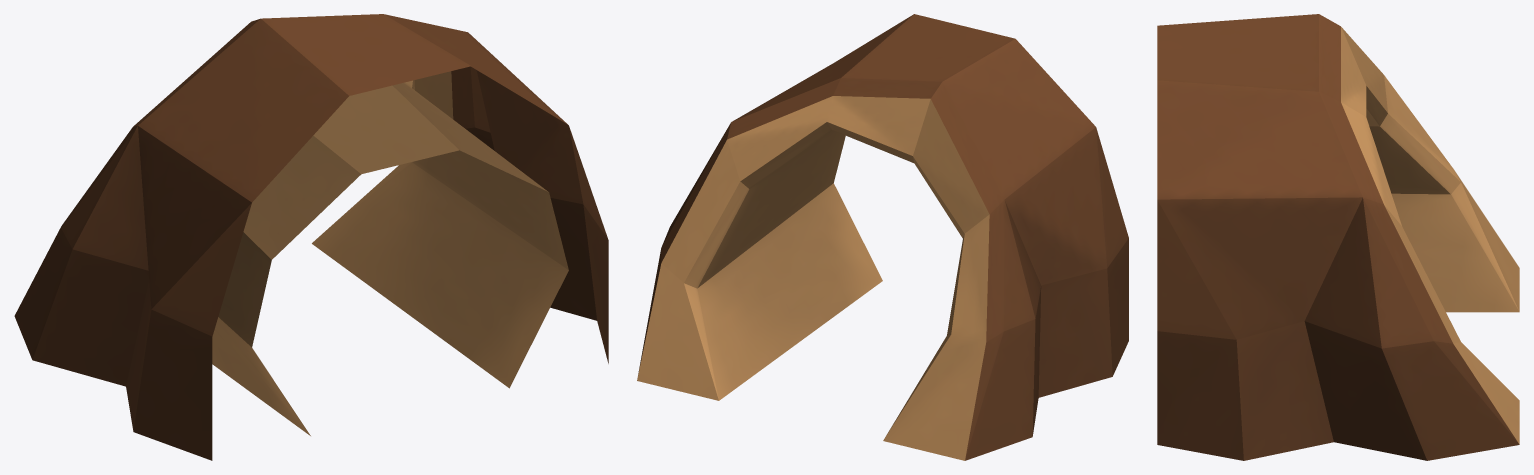
The model's file is TroncPerce_EntreeB.FBX.
3 views of the same model, side by side, from view 1: azimuth 30°, elevation 25°; view 2: azimuth 150°, elevation 25°; view 3: azimuth 270°, elevation 25° (orthographic). The views are drawn at different scales.
Parts seen in each view (by area): view 1: TroncPercee_EntreeB; view 2: TroncPercee_EntreeB; view 3: TroncPercee_EntreeB.
Part boxes in pixels (x1,y1,x2,y2): TroncPercee_EntreeB: (14, 14, 608, 460); TroncPercee_EntreeB: (637, 14, 1128, 460); TroncPercee_EntreeB: (1157, 14, 1519, 460).
Size of the model in its own units: 2.34 by 1.66 by 1.73.
